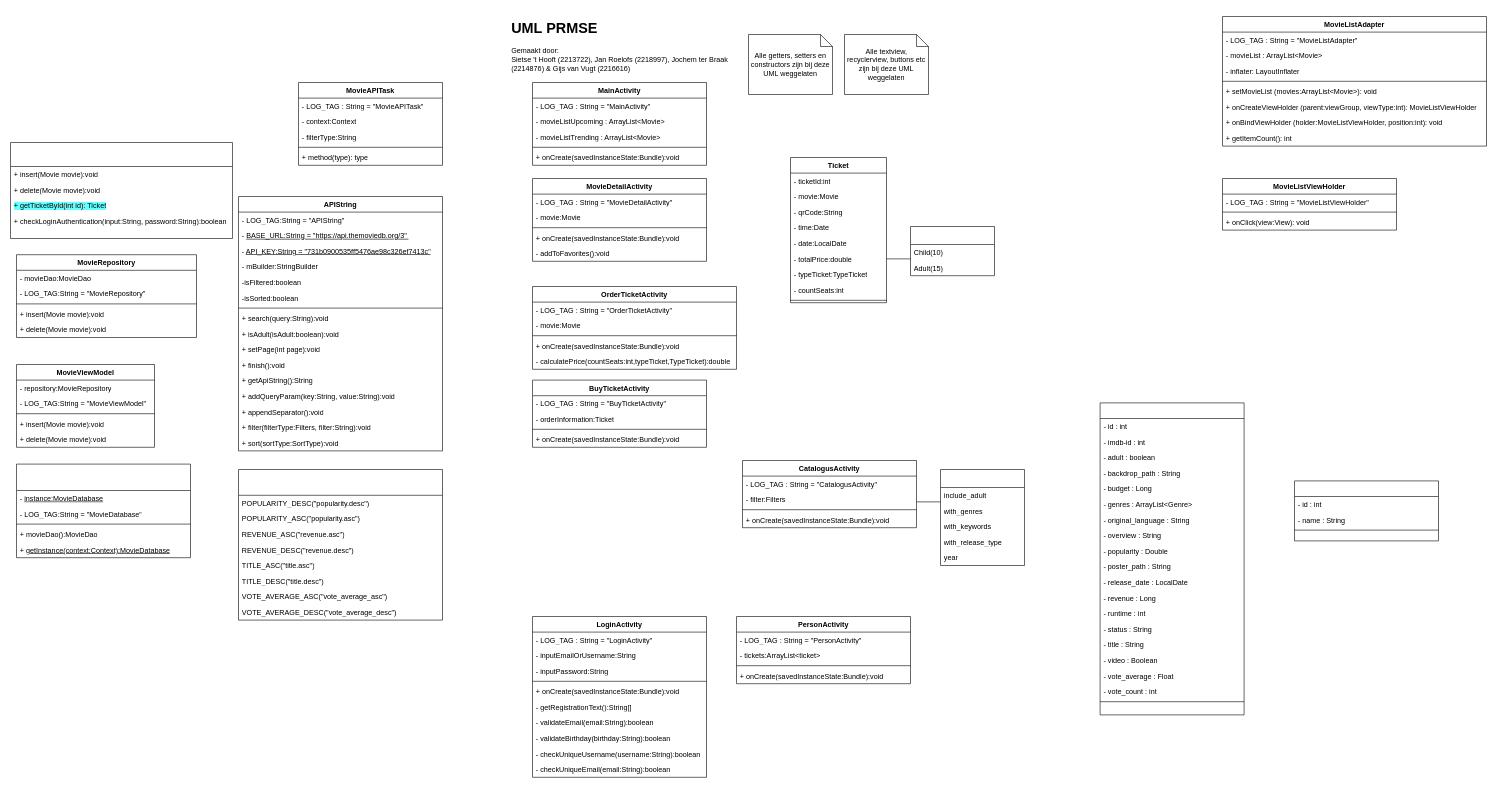
This 1497x789 diagram has some shape labels left out. Here are the shapes that lost their labels. From the top down, the box of each, then its label:
(10, 142, 232, 238): <<interface>> MovieDao
(910, 226, 994, 276): <<enumeration>> TypeTicket
(16, 464, 190, 558): <<abstract>> MovieDatabase
(940, 469, 1024, 566): <<enumeration>> Filters
(1294, 480, 1438, 541): Genre
(238, 469, 442, 620): <<enumeration>> SortType
(1100, 402, 1244, 715): Movie
